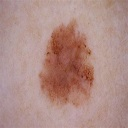Melanoma: (44, 22, 94, 100)
